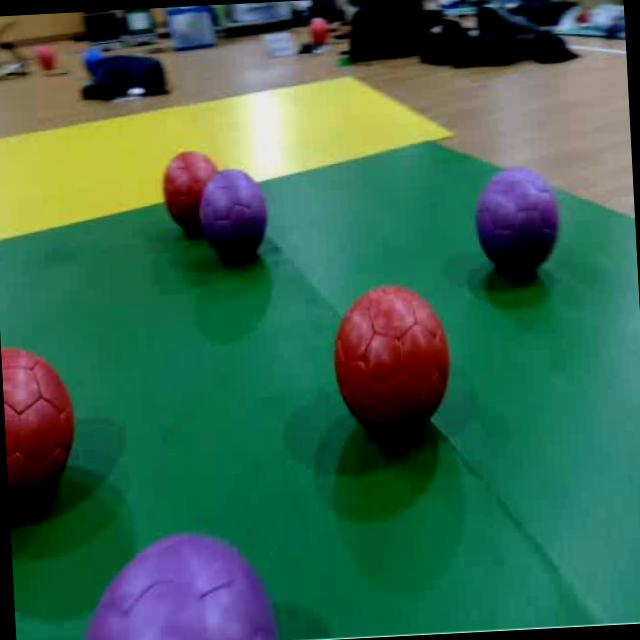blue_ball: (82, 46, 102, 76)
purple_ball: (70, 522, 287, 640), (473, 162, 564, 277), (205, 168, 273, 267)
red_ball: (331, 285, 456, 440), (1, 342, 87, 526), (163, 148, 206, 238), (35, 44, 58, 74), (308, 15, 330, 44)
